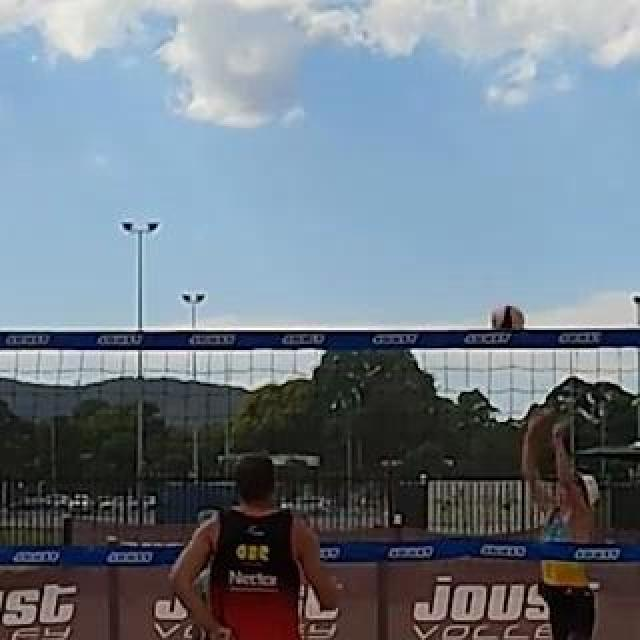volleyball: (489, 305, 525, 337)
